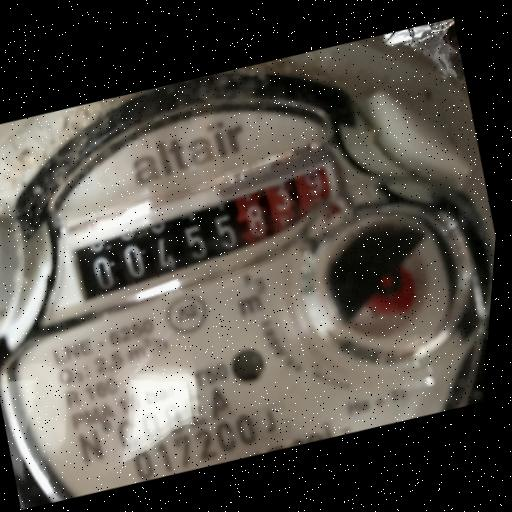0: (106, 226, 158, 289), (78, 237, 126, 298)
3: (259, 176, 306, 234)
4: (138, 216, 192, 280)
5: (199, 195, 252, 258), (169, 205, 222, 267)
8: (232, 187, 279, 246)
9: (290, 164, 338, 217)
border_water_meter_number: (48, 143, 368, 325)
